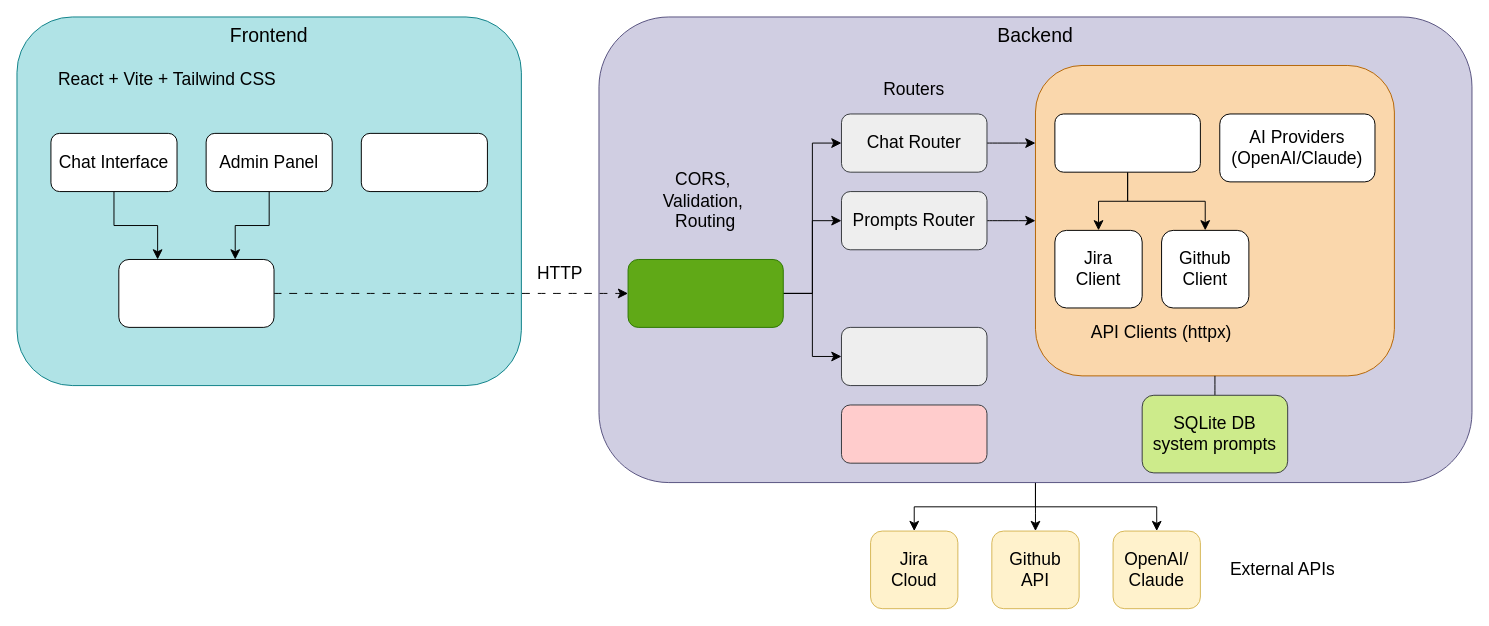
The diagram is 1489 pixels wide and 626 high, and some of its shapes have lost their labels. Each missing label, with the box of its shape:
API Client (fetch Wrapper): (118, 259, 274, 327)
Chat Engine (Dual-Mode): (1054, 113, 1200, 172)
Debug Endpoints: (841, 326, 987, 386)
FastAPI: (627, 259, 783, 327)
Message Bubble: (360, 132, 487, 192)
Services Layer: (1035, 65, 1394, 376)
Settings/Config: (841, 404, 987, 463)
